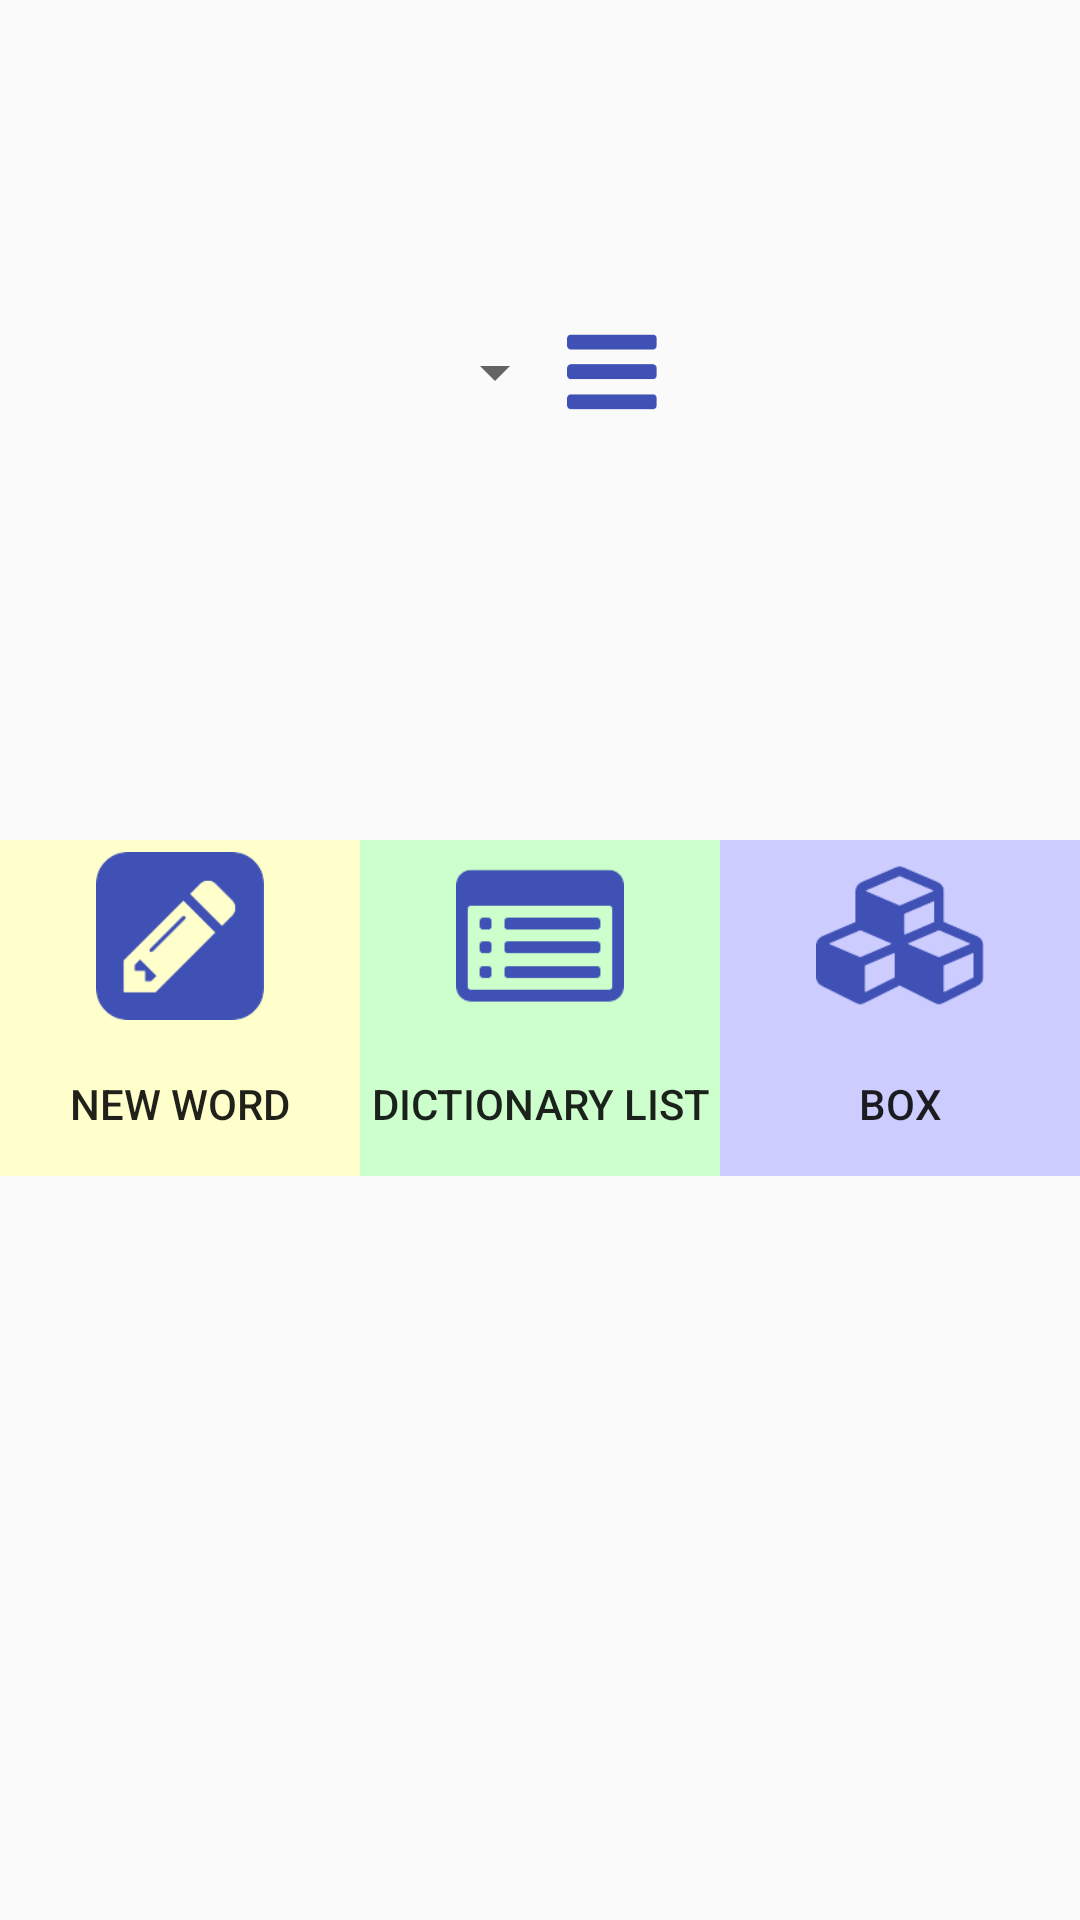

Screen size 1080*1920. Icon name, then its center in pixels as (x=x, y=y):
bars: (x=612, y=372)
cubes: (x=900, y=935)
pencil square: (x=180, y=936)
